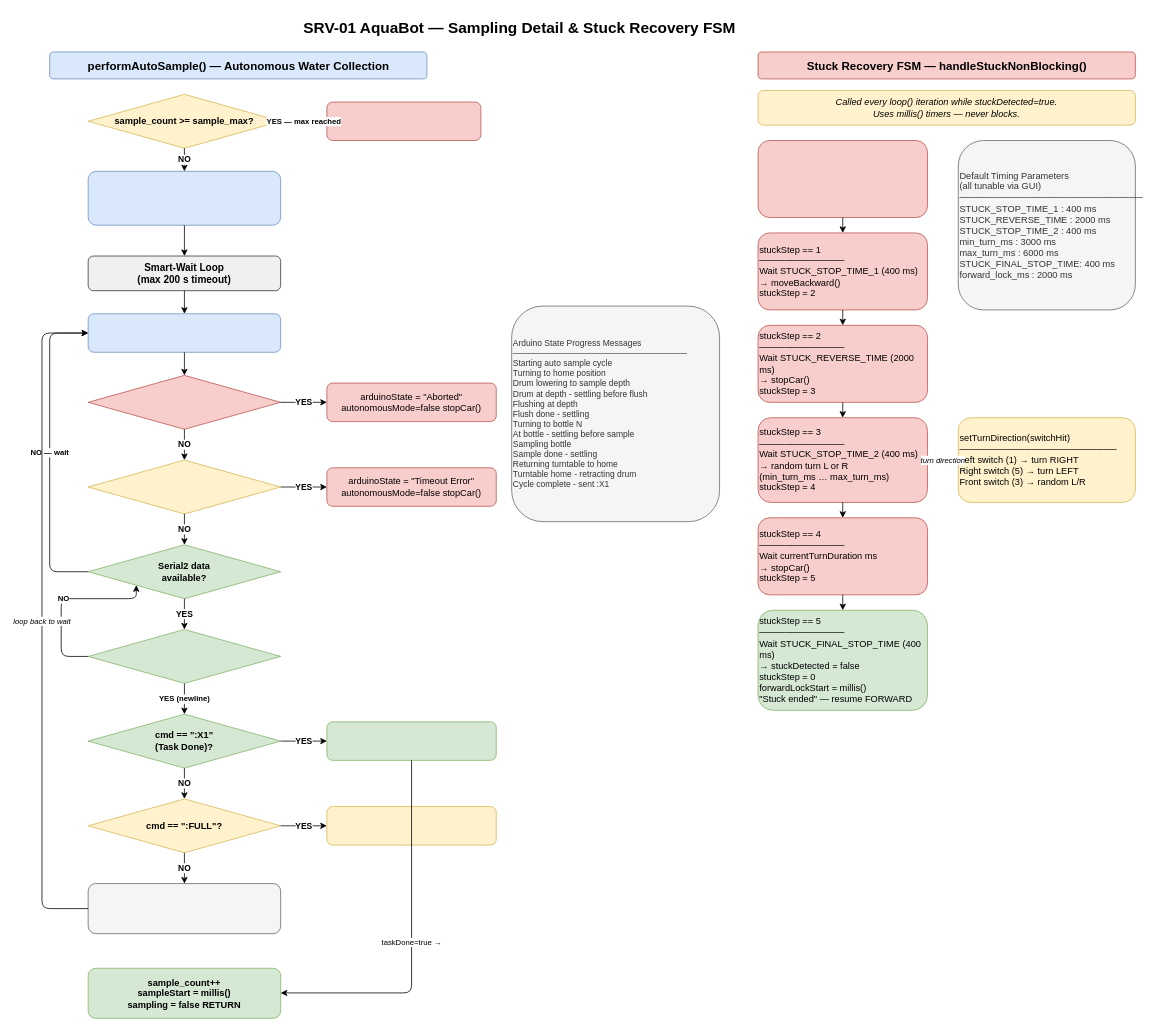
Some shapes in this 1157 by 1032 pixel diagram are drawn without their labels. The shapes that lost their labels are listed below. From the top down, each one's box as (x1, y1, x2, y2) in pixels, then its label:
(326, 101, 481, 141): autonomousMode = false stopMode = true stopCar() RETURN
(87, 171, 281, 225): Clear Serial2 buffer Send :M1 to Arduino arduinoState = "Auto Sampling..."
(757, 140, 927, 218): stuckStep == 0 ───────────── stopCar() stuckStart = millis() stuckStep = 1
(87, 313, 281, 352): server.handleClient() (keep GUI responsive)
(87, 375, 281, 429): stopMode set (user pressed STOP)?
(87, 459, 281, 514): 200 s timeout expired?
(87, 629, 281, 683): Read byte, append to cmd buffer Newline received?
(326, 721, 496, 760): taskDone = true BREAK arduinoState = "Sample Done"
(326, 806, 496, 845): arduinoState = "Memory Full" → loop back (no break)
(87, 883, 281, 934): Update arduinoState string (progress status messages) → loop back to wait-top
